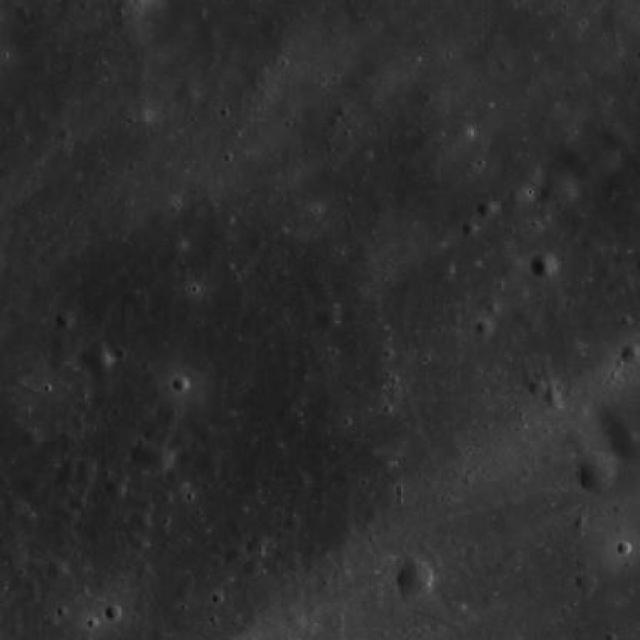crater: (562, 131, 612, 180), (600, 166, 640, 209), (132, 437, 174, 477), (594, 124, 636, 164), (404, 72, 446, 112), (539, 173, 578, 212), (578, 454, 618, 492), (398, 560, 436, 598), (82, 344, 115, 376), (81, 298, 110, 328), (512, 157, 540, 186), (154, 396, 183, 424), (530, 250, 558, 278), (512, 300, 540, 328), (286, 287, 314, 315), (17, 468, 45, 494), (0, 542, 25, 570), (304, 270, 330, 296), (51, 460, 77, 486), (47, 343, 73, 369), (316, 305, 342, 330), (244, 528, 270, 552), (0, 524, 20, 554), (355, 88, 380, 112), (498, 196, 522, 219), (274, 96, 298, 119), (68, 374, 92, 397), (176, 83, 199, 106), (124, 286, 147, 309), (106, 479, 128, 501), (0, 492, 22, 514), (412, 132, 434, 154), (592, 254, 614, 276), (170, 426, 192, 448), (228, 548, 249, 570), (198, 44, 219, 66), (56, 311, 78, 331), (432, 263, 454, 283), (78, 458, 99, 478), (132, 512, 152, 532), (48, 560, 68, 580), (21, 429, 41, 449), (578, 574, 598, 594), (502, 541, 522, 561), (533, 202, 553, 222), (3, 99, 23, 119), (551, 121, 571, 141), (53, 138, 73, 158), (244, 559, 264, 578), (621, 343, 640, 363), (480, 198, 498, 217), (44, 239, 62, 258), (174, 376, 192, 394), (394, 350, 412, 368), (51, 332, 68, 350), (70, 413, 88, 430), (22, 356, 40, 373), (529, 379, 546, 396), (176, 583, 193, 600), (134, 560, 151, 577), (248, 232, 266, 248), (106, 606, 123, 622), (478, 319, 494, 336), (41, 612, 57, 628), (478, 288, 494, 304), (577, 234, 594, 248)
